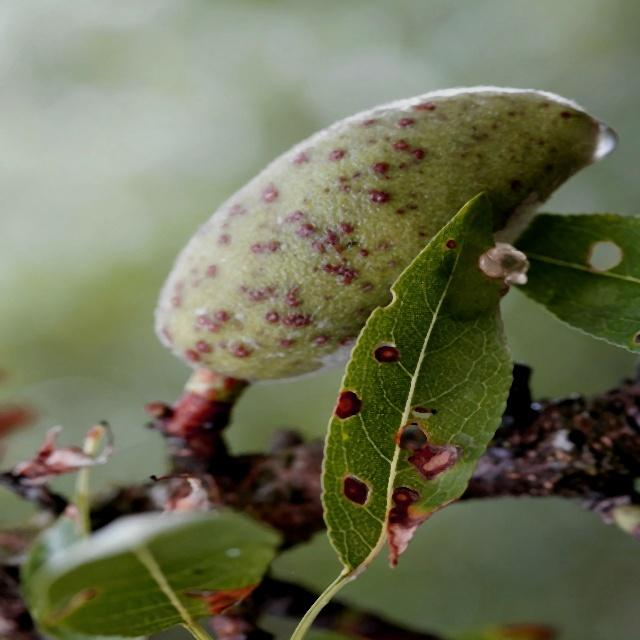leaf_spot: (310, 175, 532, 609)
